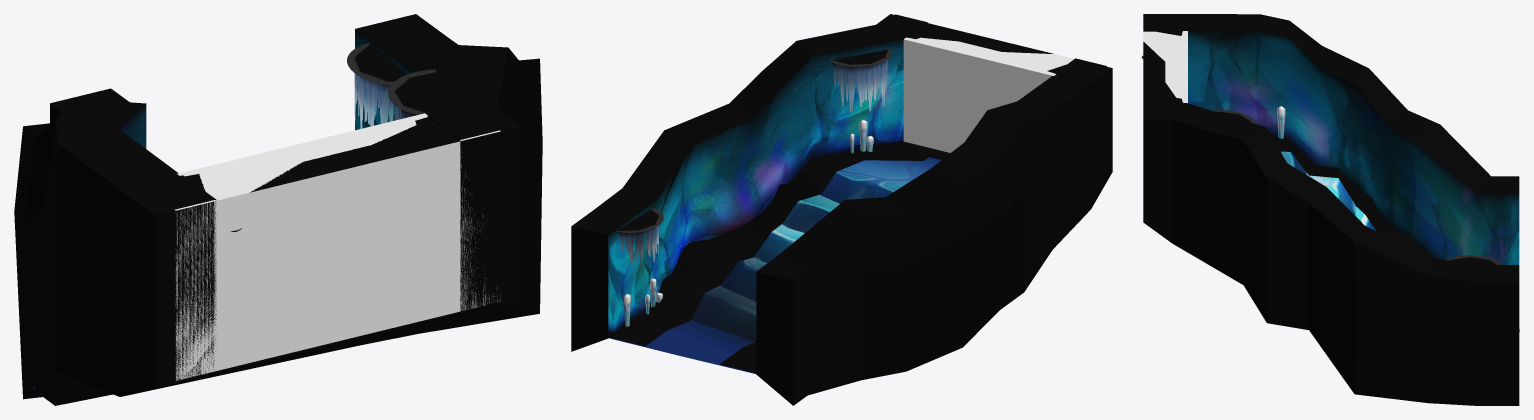
File: Dungeon_072_GoalStepD_003.fbx
3 renders of one model, left to right at view 1: azimuth 30°, elevation 25°; view 2: azimuth 150°, elevation 25°; view 3: azimuth 270°, elevation 25°, orthographic. The views are drawn at different scales.
Visible parts, largest first — view 1: Dun_072_StepD_001_wall, DoorWay_NavMask (3), DoorWay_NavMask (1), Dun_072_Door_002, Dun_072_OB_Icicle, DoorWay_NavMask (2); view 2: Dun_072_StepD_001_wall, Dun_072_SteoD_001_ground, Dun_072_StepD_001_shadow, DoorWay_NavMask (1), Dun_072_OB_Icicle, Dun_072_Door_002, Dun_072_OB_Ice_crystals01, DoorWay_NavMask (2); view 3: Dun_072_StepD_001_wall, Dun_072_Door_002, Dun_072_StepD_001_shadow, DoorWay_NavMask (1), Dun_072_SteoD_001_ground, Dun_072_OB_Icicle, DoorWay_NavMask (3), DoorWay_NavMask (2).
Boxes of the visible parts, left/top/right/bottom form: Dun_072_StepD_001_wall: left=14, top=14, right=542, bottom=405; DoorWay_NavMask (3): left=174, top=130, right=500, bottom=380; DoorWay_NavMask (1): left=177, top=113, right=461, bottom=371; Dun_072_Door_002: left=131, top=103, right=512, bottom=372; Dun_072_OB_Icicle: left=347, top=43, right=436, bottom=128; DoorWay_NavMask (2): left=181, top=165, right=278, bottom=191; Dun_072_StepD_001_wall: left=571, top=14, right=1112, bottom=405; Dun_072_SteoD_001_ground: left=609, top=157, right=986, bottom=373; Dun_072_StepD_001_shadow: left=609, top=141, right=939, bottom=373; DoorWay_NavMask (1): left=903, top=37, right=1073, bottom=152; Dun_072_OB_Icicle: left=617, top=49, right=891, bottom=267; Dun_072_Door_002: left=876, top=14, right=1106, bottom=80; Dun_072_OB_Ice_crystals01: left=624, top=120, right=873, bottom=326; DoorWay_NavMask (2): left=1013, top=53, right=1066, bottom=74; Dun_072_StepD_001_wall: left=1143, top=14, right=1519, bottom=405; Dun_072_Door_002: left=1143, top=15, right=1185, bottom=116; Dun_072_StepD_001_shadow: left=1271, top=135, right=1432, bottom=257; DoorWay_NavMask (1): left=1143, top=31, right=1187, bottom=103; Dun_072_SteoD_001_ground: left=1281, top=151, right=1519, bottom=331; Dun_072_OB_Icicle: left=1212, top=110, right=1501, bottom=264; DoorWay_NavMask (3): left=1143, top=31, right=1171, bottom=89; DoorWay_NavMask (2): left=1149, top=31, right=1186, bottom=54.
Size of what is drawn, in the model's own units: 7.09 by 4.45 by 6.77.
